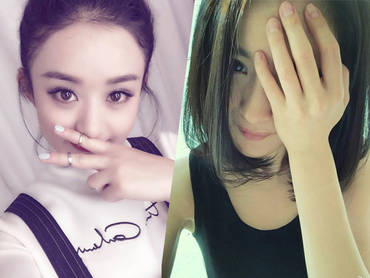face: (213, 19, 337, 159), (26, 28, 145, 169)
